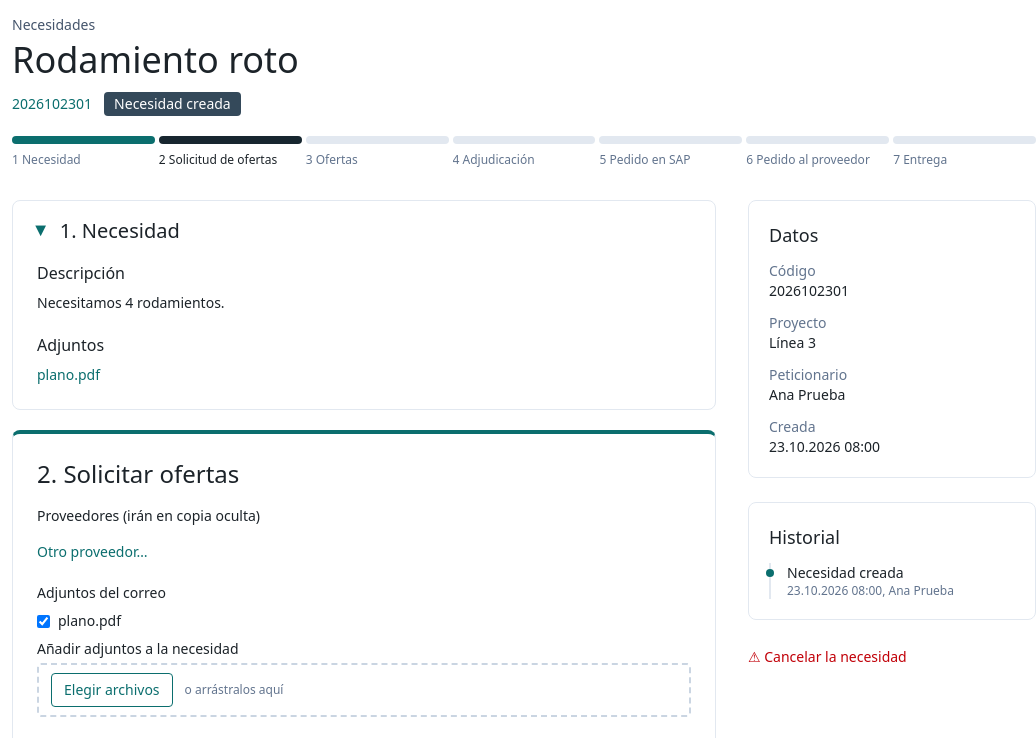
Test: PaginaNecesidad › «Otro proveedor» lo guarda en la lista y lo deja marcado
The width and height of the screenshot is (1036, 738).
Click the button "Otro proveedor…".
click(92, 552)  # box [37,542,148,562]
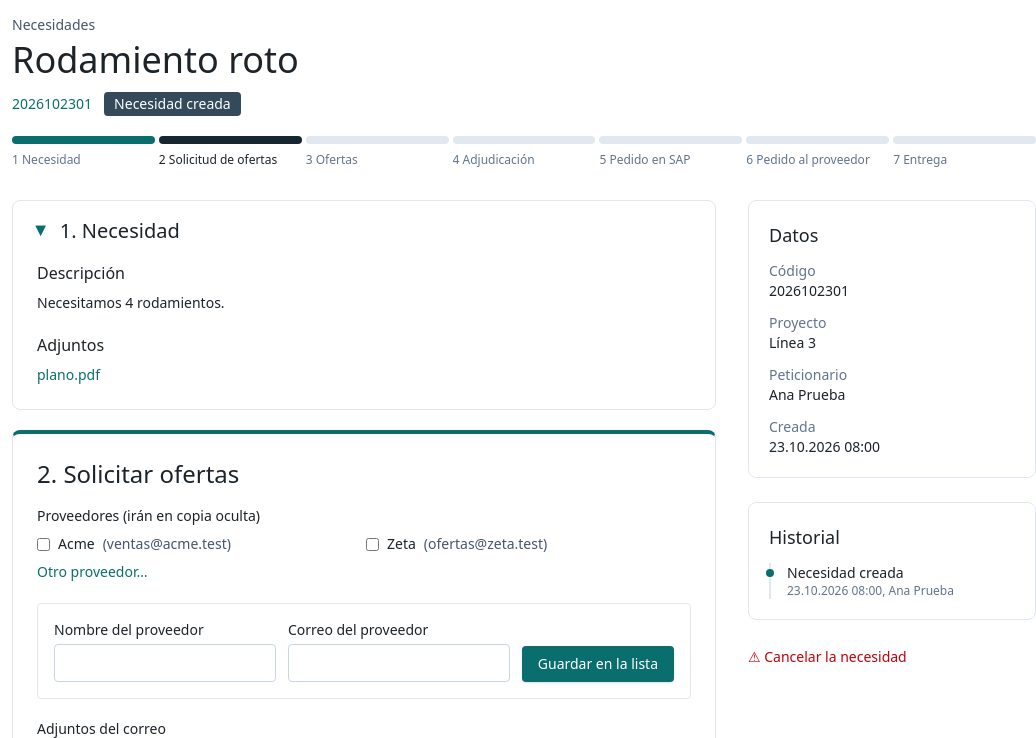
Type "Beta" into the field labelled "Nombre del proveedor".
click(165, 663); type("Beta")  # box [54,644,276,682]
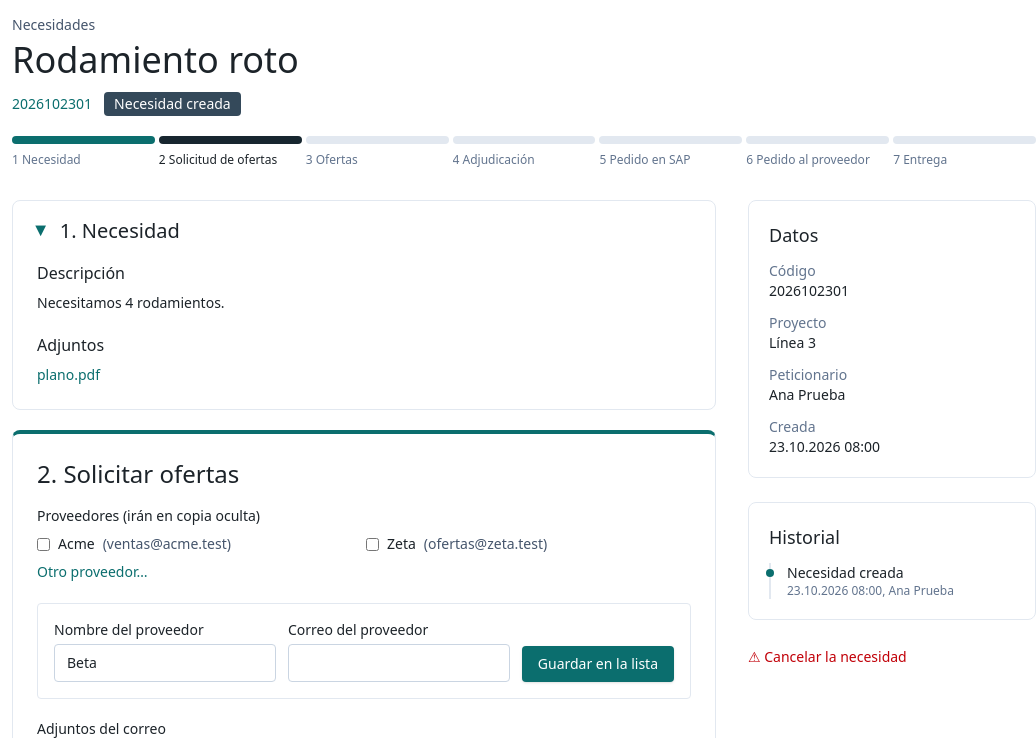
Type "beta@beta.test" into the field labelled "Correo del proveedor".
click(399, 663); type("beta@beta.test")  # box [288,644,510,682]
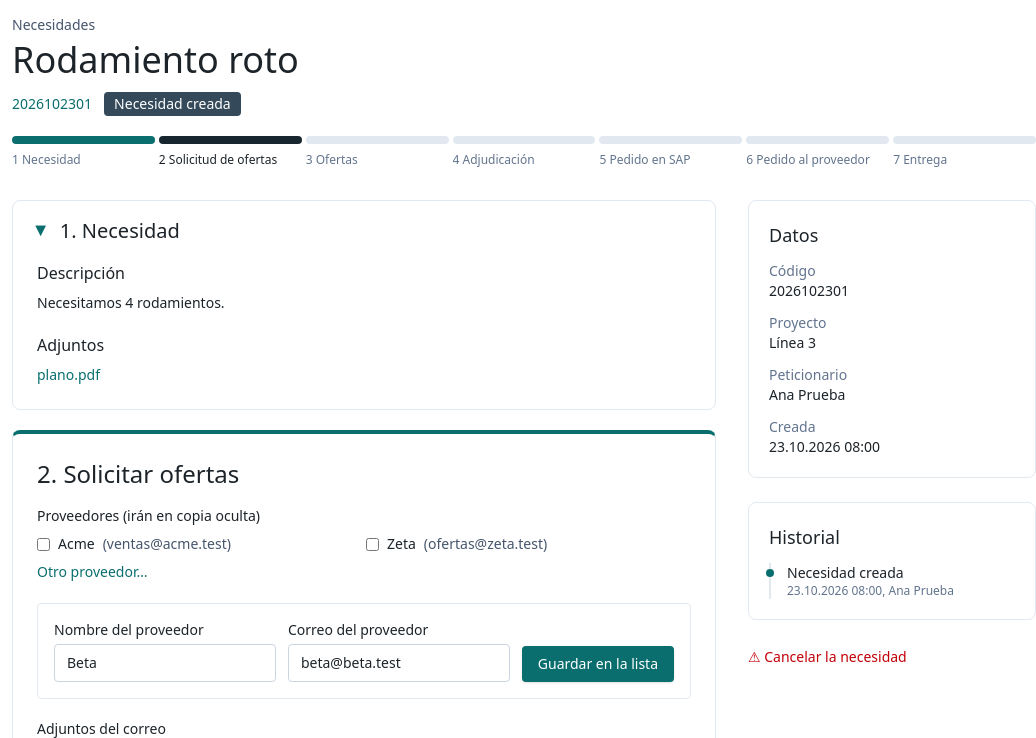
Click the button "Guardar en la lista".
click(598, 664)  # box [522,646,674,682]
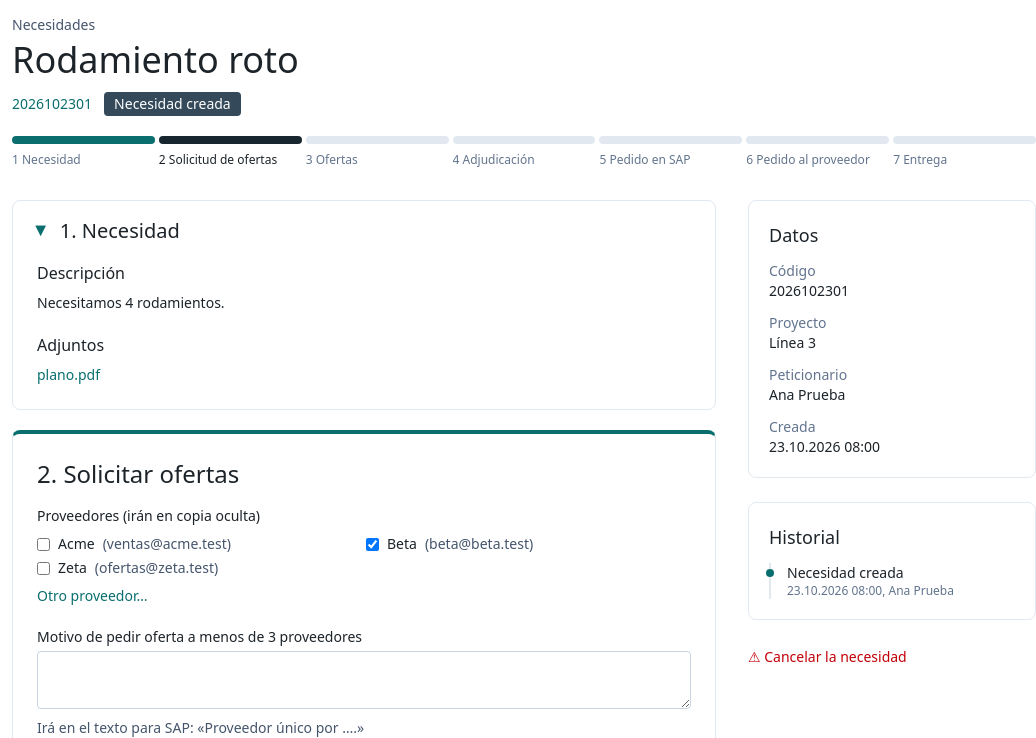
Expected: the checkbox labelled "Beta (beta@beta.test)" is checked, [366,538,379,550]
